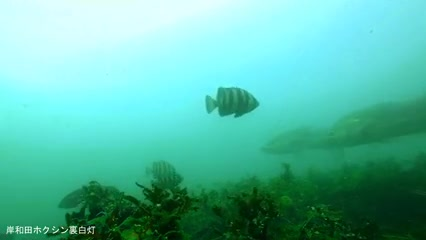ishidai: (207, 83, 265, 121)
